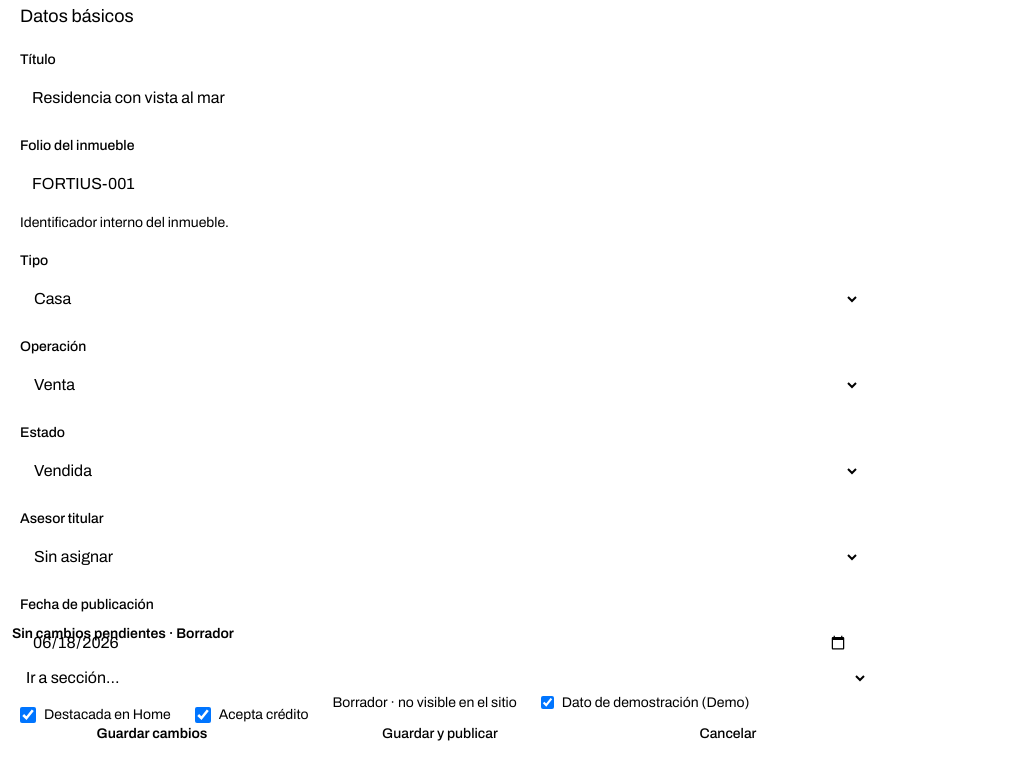
Test: switching an existing sold listing to rental offers Rentada and resets incompatible status
(page scrolled)
Expected: the dropdown labelled "Estado" shows "Vendida", x1=20 y1=449 x2=860 y2=493
Select "Renta" in the dropdown labelled "Operación" at (440,385), box x1=20 y1=363 x2=860 y2=407
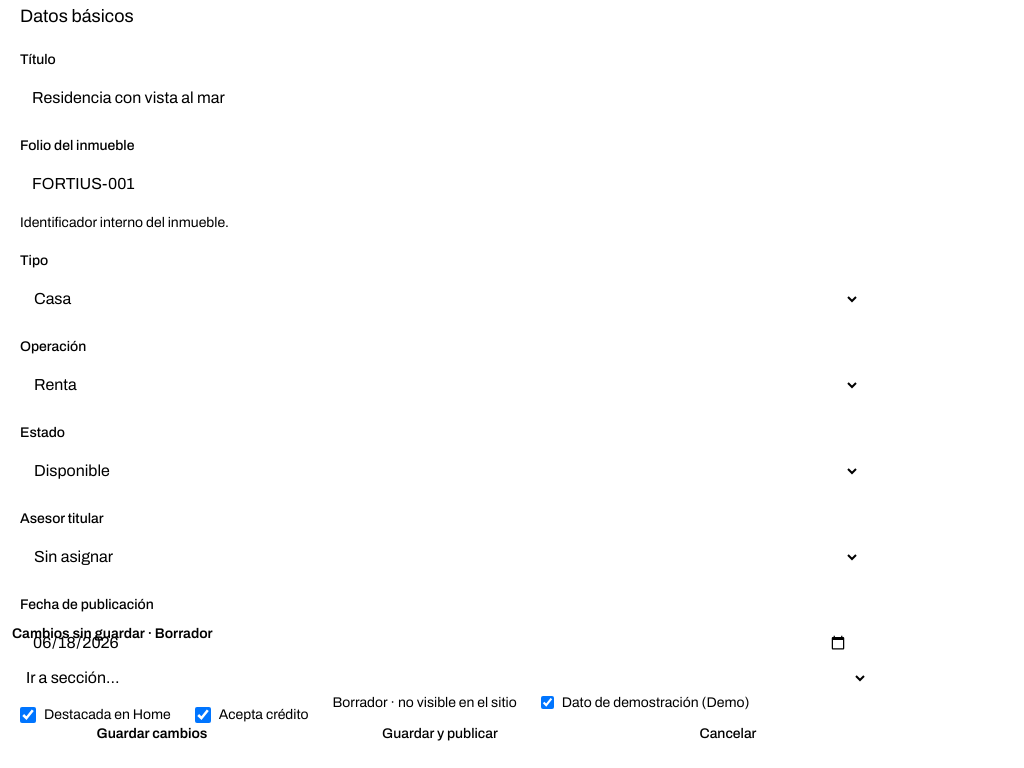
Expected: the option "Vendida" is not shown
Now the dropdown labelled "Estado" shows "Disponible", box x1=20 y1=449 x2=860 y2=493
